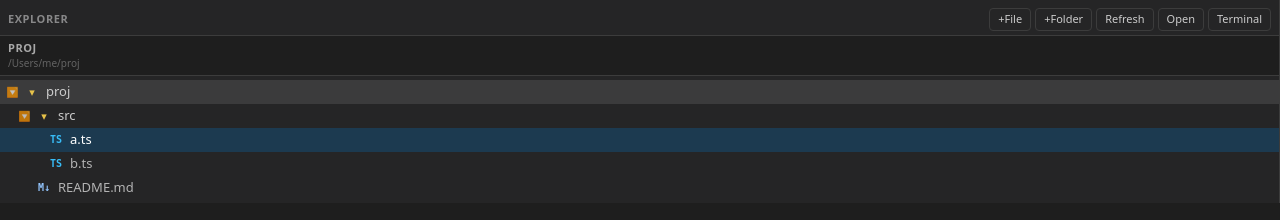
Test: Sidebar right-click rename / delete › right-click on a file opens the context menu with Rename/Delete
Step 1. Right-click the element showing "M↓ README.md" → (86, 186), box left=38, top=178, right=134, bottom=196
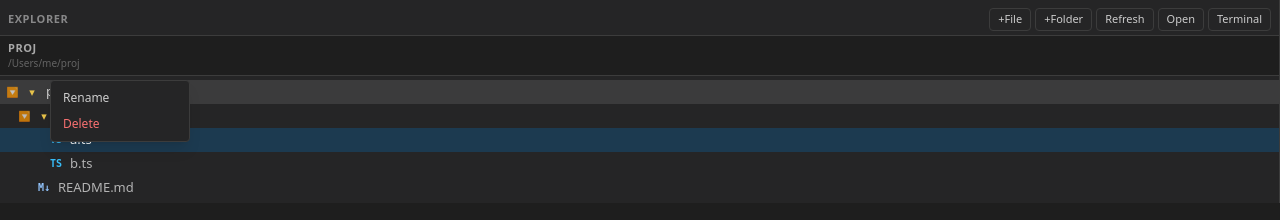
Result: the menu with test id "context-menu" is shown at left=50, top=80, right=190, bottom=142
Result: the menu item with test id "context-menu-rename" is shown at left=51, top=85, right=189, bottom=111
Result: the menu item with test id "context-menu-delete" is shown at left=51, top=111, right=189, bottom=137
